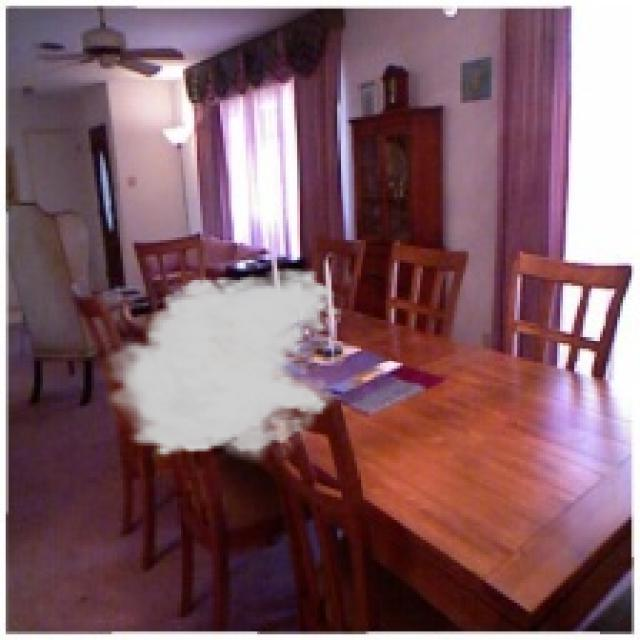smoke: (97, 266, 343, 468)
